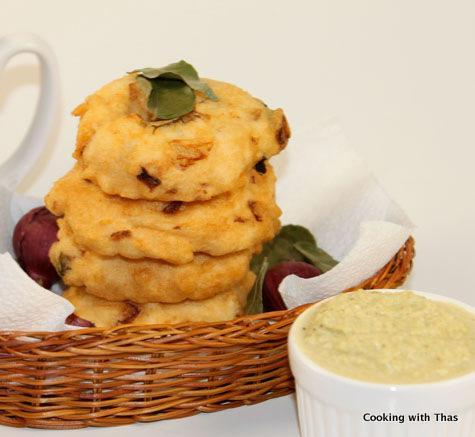mvada: (79, 86, 265, 321)
